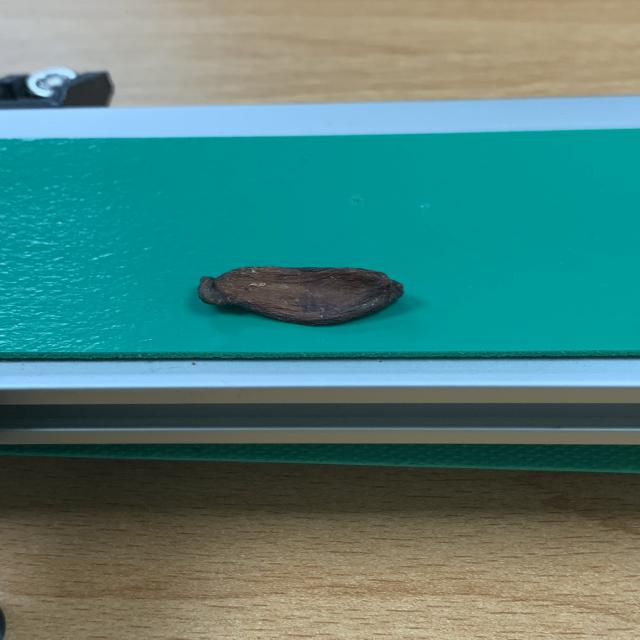Flat_cocoabeans: (139, 230, 477, 355)
